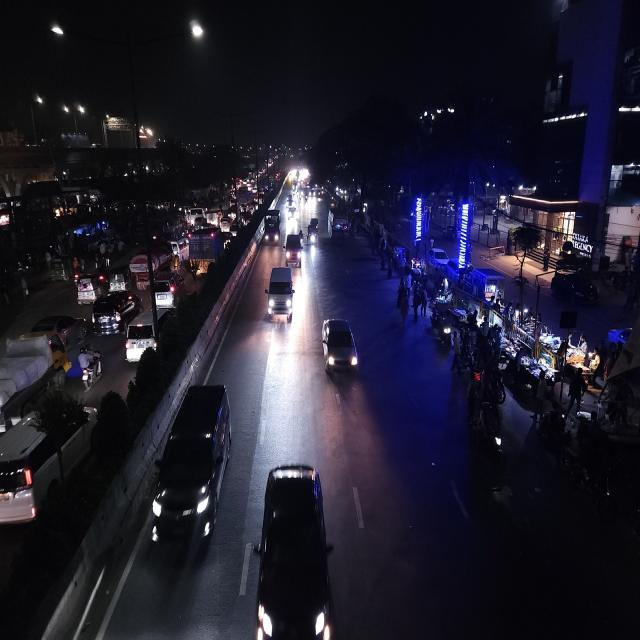bus: (326, 204, 350, 246)
car: (252, 456, 338, 640), (150, 381, 234, 557), (0, 393, 98, 533), (320, 314, 360, 382), (122, 306, 168, 365), (35, 310, 87, 355), (90, 290, 140, 334), (266, 263, 295, 326), (152, 270, 186, 307), (264, 206, 282, 247), (285, 230, 304, 268), (428, 241, 448, 268), (229, 222, 241, 240), (287, 204, 298, 222)
cng: (73, 272, 101, 304), (108, 266, 129, 292), (48, 258, 68, 284), (306, 225, 318, 246)
motorcycle: (78, 345, 104, 389)
pedestrian: (394, 279, 411, 323), (411, 284, 425, 323), (383, 250, 395, 277)
pickup_van: (2, 330, 69, 397)
truck: (187, 226, 230, 280), (129, 242, 180, 282)
